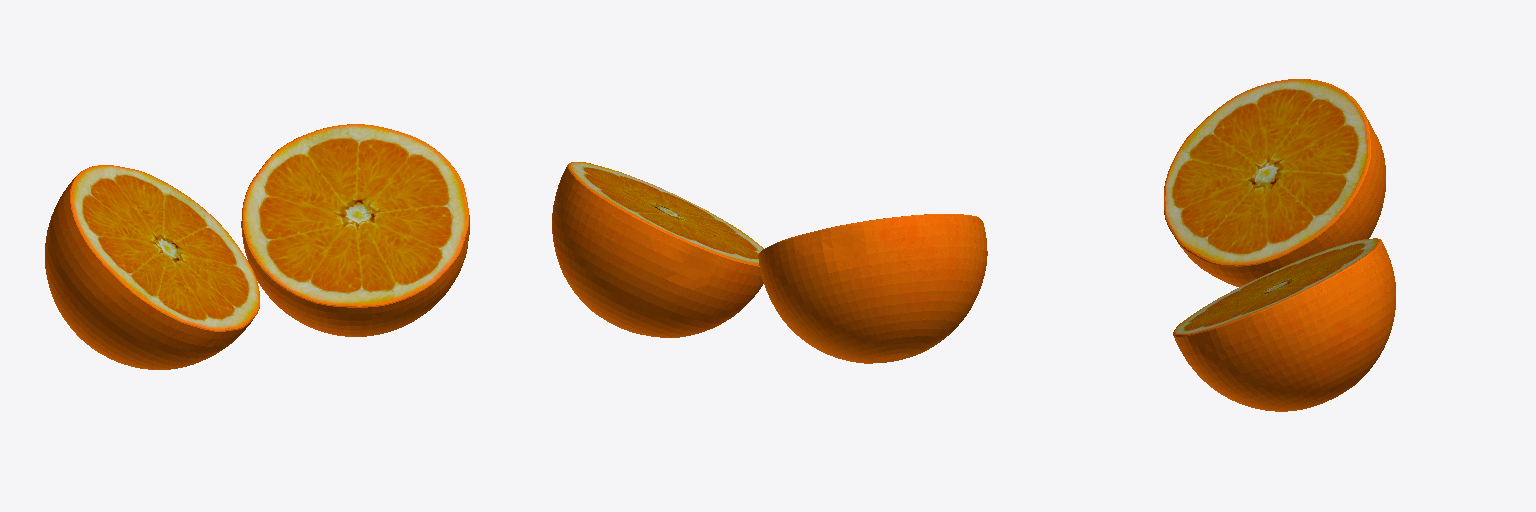
3 renders of one model, left to right at view 1: azimuth 30°, elevation 25°; view 2: azimuth 150°, elevation 25°; view 3: azimuth 270°, elevation 25°, orthographic.
Parts seen in each view (by area): view 1: b_orange_085.001, b_orange_085; view 2: b_orange_085, b_orange_085.001; view 3: b_orange_085, b_orange_085.001.
Boxes of the visible parts, x1,y1,x2,y2 form: b_orange_085.001: [241, 124, 469, 336]; b_orange_085: [45, 165, 259, 369]; b_orange_085: [758, 214, 987, 363]; b_orange_085.001: [552, 162, 763, 337]; b_orange_085: [1164, 79, 1385, 286]; b_orange_085.001: [1173, 238, 1395, 411].
Size of the model in its own units: 15.65 by 7.14 by 7.88.
1 materials, 1 textured.